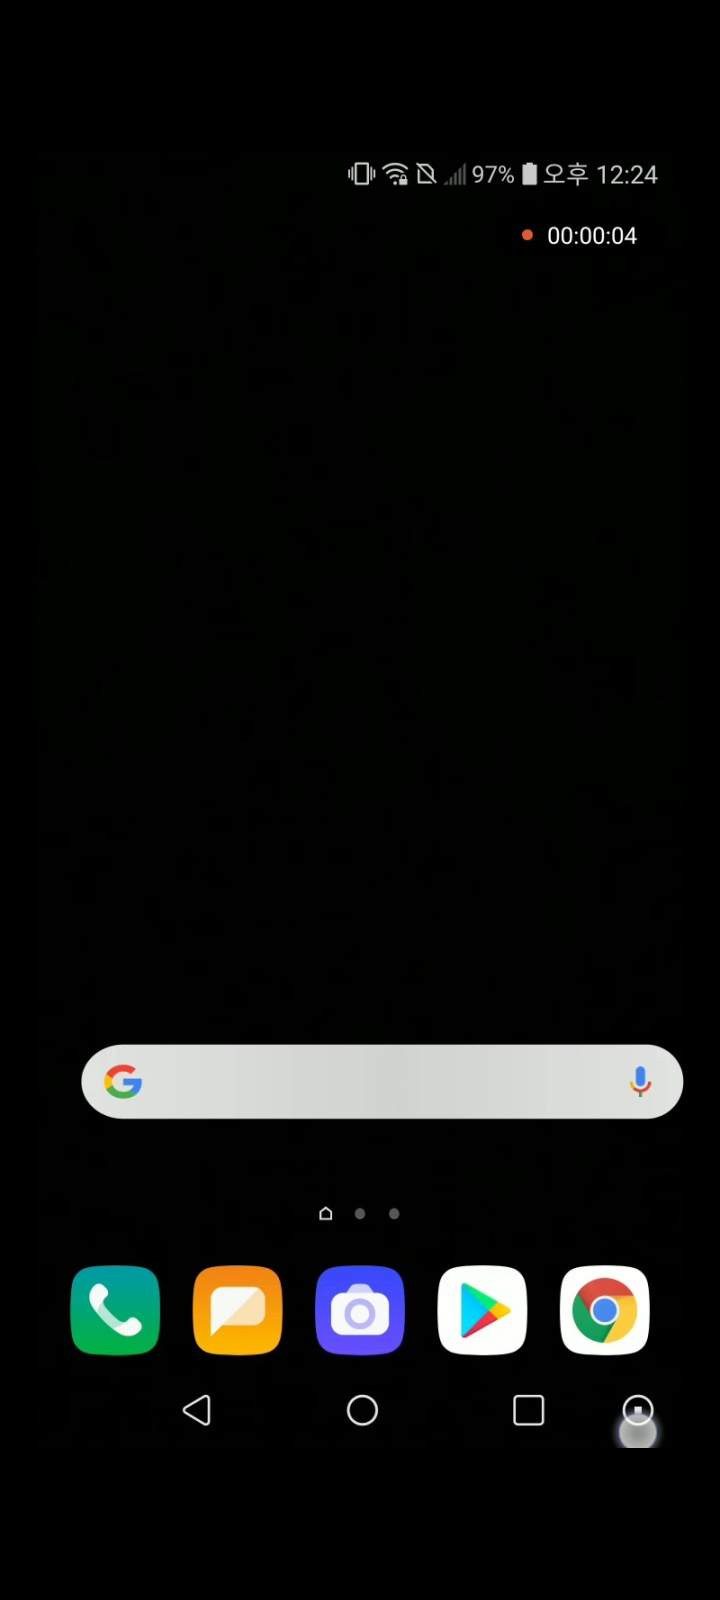Cursor: (617, 1403, 662, 1448)
